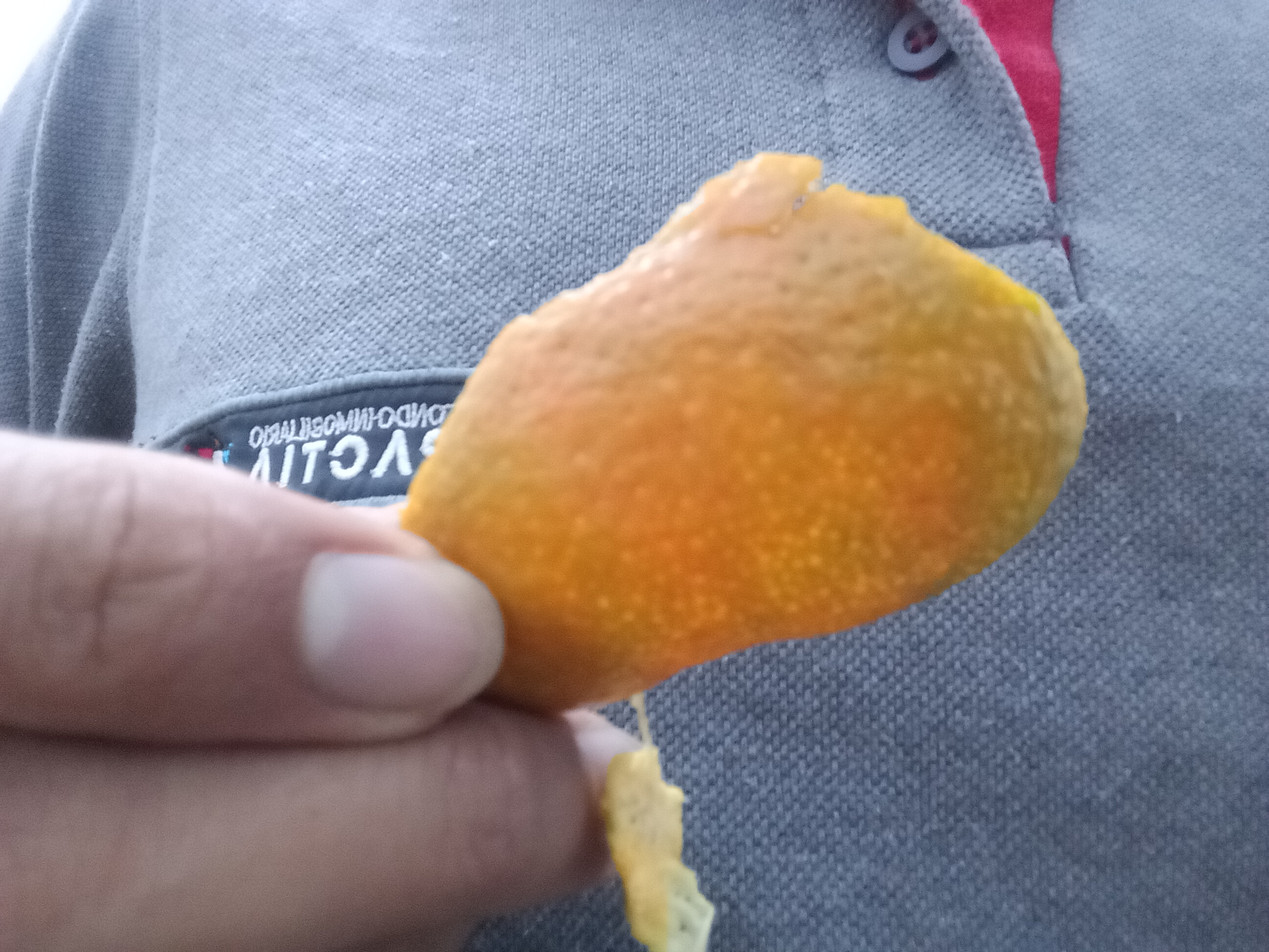Organico: (394, 153, 1086, 716)
